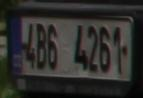1: (113, 26, 123, 74)
2: (88, 25, 99, 74)
4: (74, 25, 88, 71), (26, 23, 36, 69)
6: (48, 24, 62, 71), (99, 25, 111, 74)
B: (36, 23, 47, 69)
